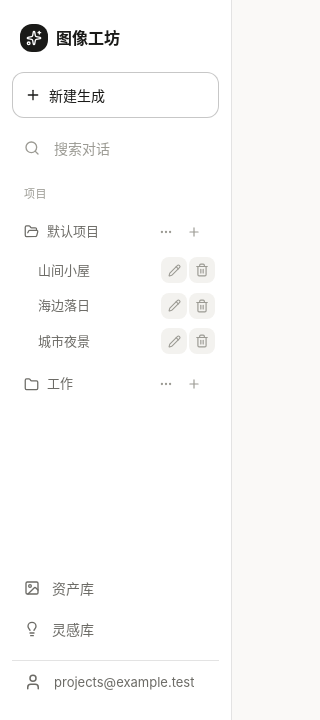
Test case: Sidebar 项目分组 › fetches debounced search results and restores project rows when cleared
The width and height of the screenshot is (320, 720).
Expected: the link "山间小屋" is shown, [38,262,90,278]
Type " 山间 " into the search field labelled "搜索对话" at x=130, y=148, box [52,130,207,166]
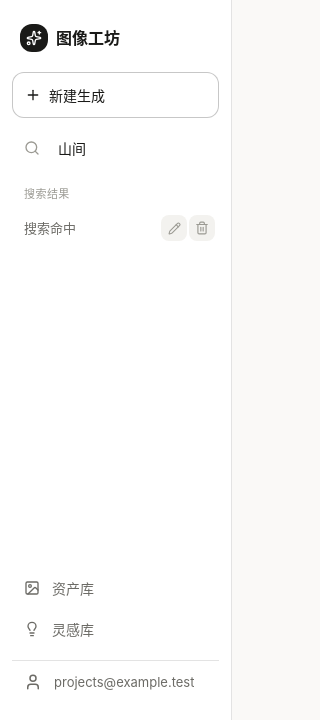
Result: the link "搜索命中" is shown at [24,220,76,236]
Clear the search field named "搜索对话" at x=130, y=148, box [52,130,207,166]
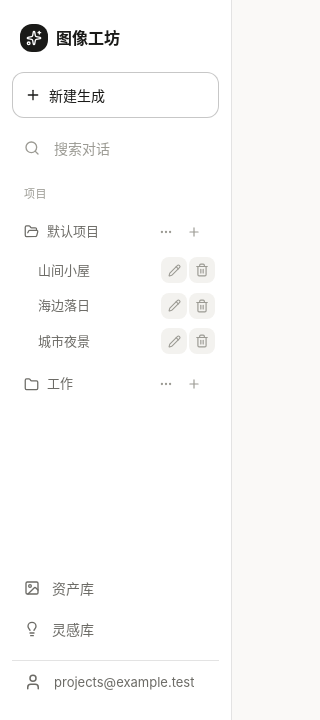
Result: the link "山间小屋" is shown at [38,262,90,278]
